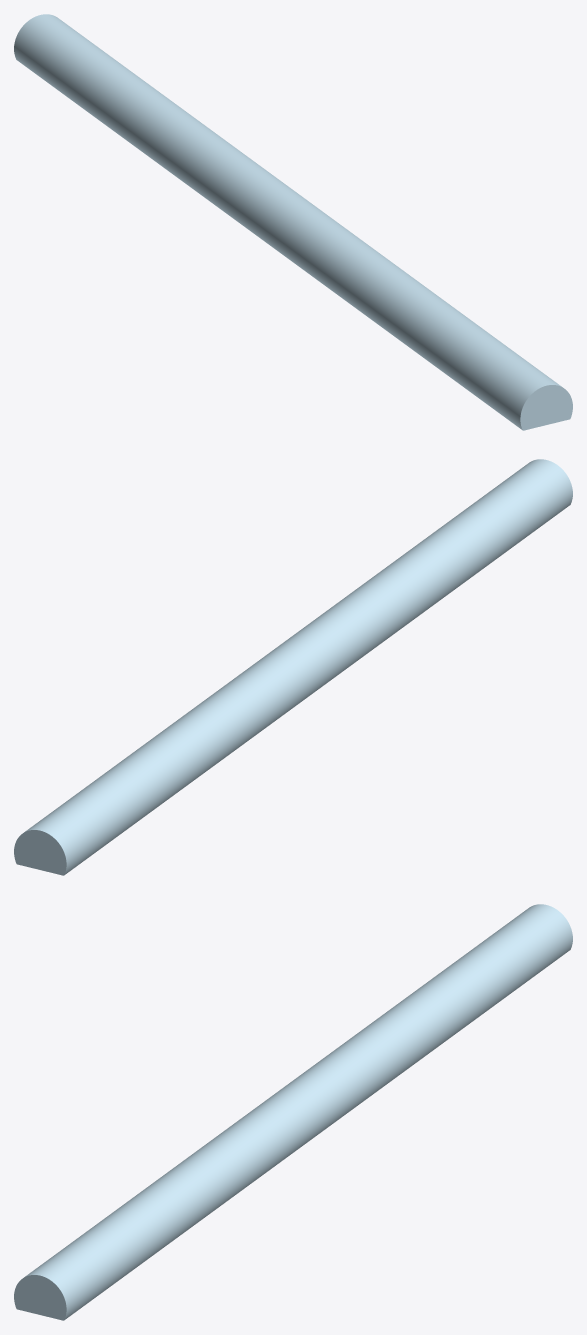
The model's file is Round_Toprail.gltf.
The picture shows the model from 3 angles, top to bottom: view 1: azimuth 30°, elevation 25°; view 2: azimuth 150°, elevation 25°; view 3: azimuth 330°, elevation 25°; orthographic projection.
Visible parts, largest first — view 1: Part 1; view 2: Part 1; view 3: Part 1.
Boxes of the visible parts, box(x1,y1,x2,y2) form: Part 1: box(14, 14, 572, 430); Part 1: box(14, 459, 572, 875); Part 1: box(14, 904, 572, 1320).
Size of the model in its own units: 0.06 by 0.043 by 1.
